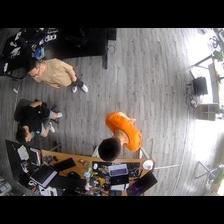normal: (25, 56, 89, 95), (97, 111, 144, 163), (16, 99, 61, 144)
